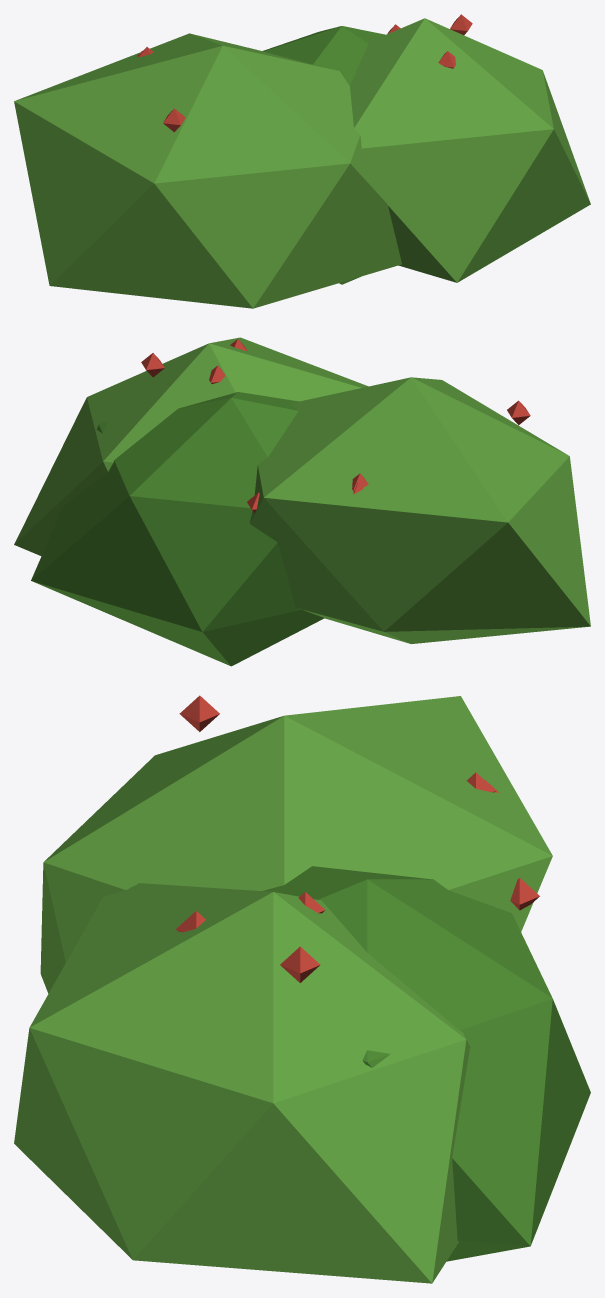
The model's file is HS_LP_Bush_Berry_Red_01.fbx.
3 views of the same model, one above another, from view 1: azimuth 30°, elevation 25°; view 2: azimuth 150°, elevation 25°; view 3: azimuth 270°, elevation 25° (orthographic). The views are drawn at different scales.
Visible parts, largest first — view 1: HS_LP_Bush_Berry_Red_01; view 2: HS_LP_Bush_Berry_Red_01; view 3: HS_LP_Bush_Berry_Red_01.
Boxes of the visible parts, bbox=[...] form: HS_LP_Bush_Berry_Red_01: bbox=[14, 14, 590, 308]; HS_LP_Bush_Berry_Red_01: bbox=[14, 337, 590, 666]; HS_LP_Bush_Berry_Red_01: bbox=[14, 695, 590, 1283].
Bounding box in the file's own units: 132 × 73.2 × 84.85.
